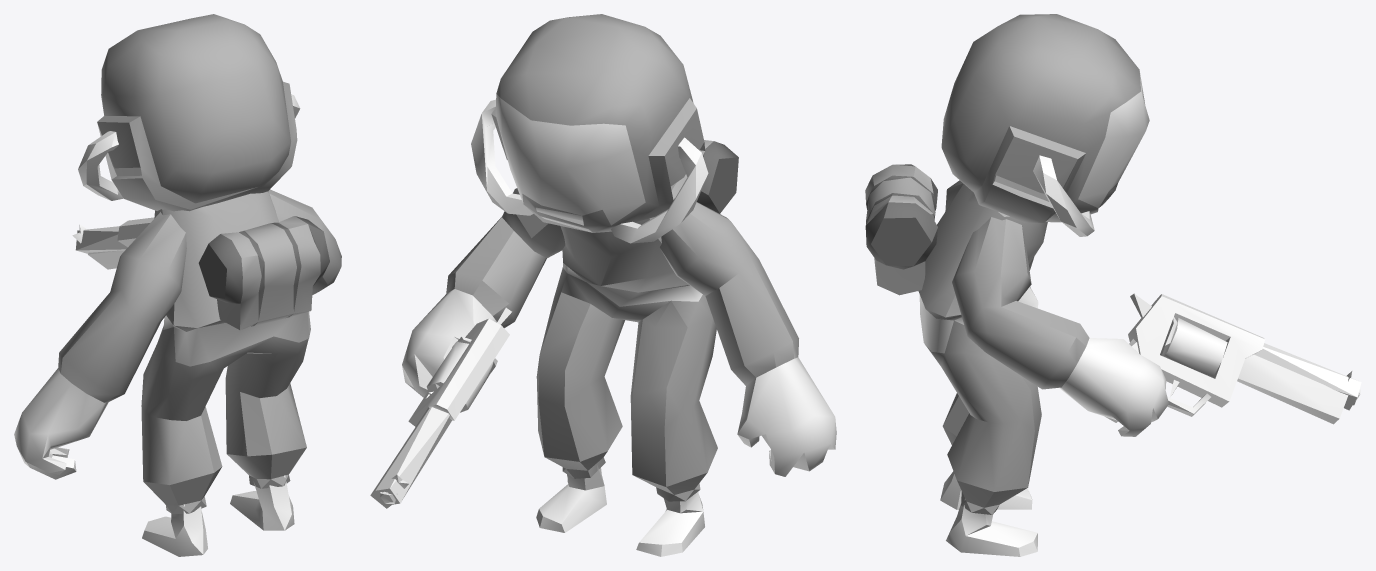
File: packer_escort.glb
3 renders of one model, left to right at view 1: azimuth 30°, elevation 25°; view 2: azimuth 150°, elevation 25°; view 3: azimuth 270°, elevation 25°, orthographic. The views are drawn at different scales.
Visible parts, largest first — view 1: Body; view 2: Body; view 3: Body.
Boxes of the visible parts, x1,y1,x2,y2 form: Body: (14,14,341,556); Body: (370,14,836,556); Body: (865,14,1361,556).
Bounding box in the file's own units: 1.29 × 1.8 × 1.62.
Materials: 2 (1 with a texture image).
